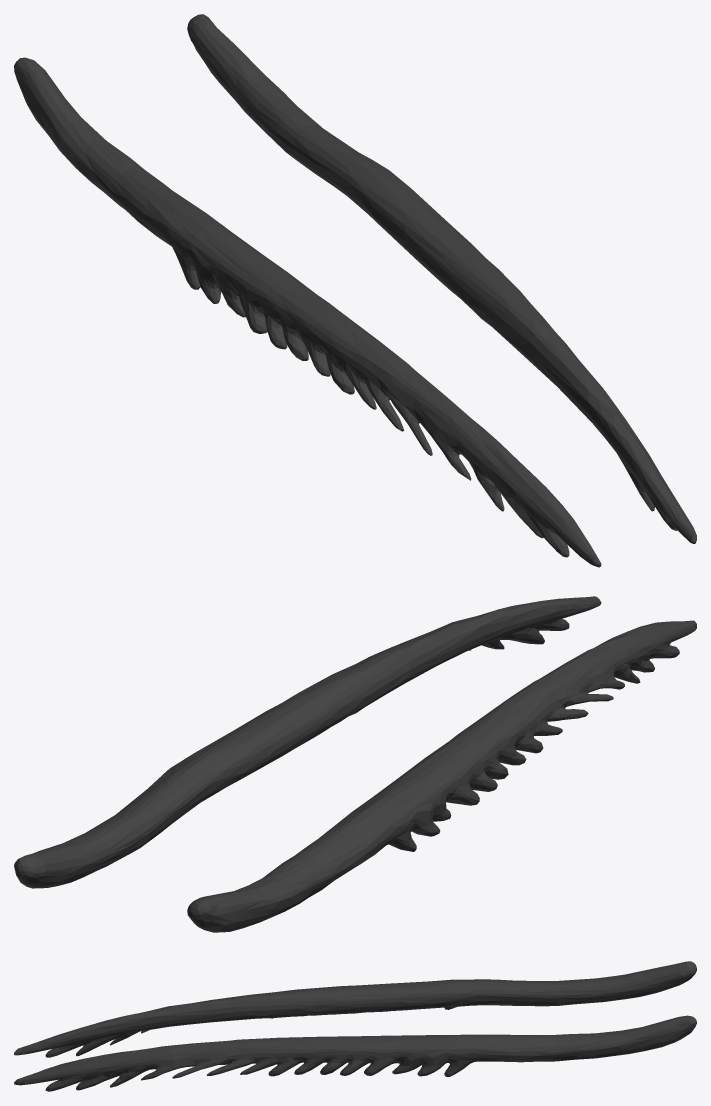
The model's file is m_iliocostalis_thoracis.glb.
The picture shows the model from 3 angles, top to bottom: view 1: azimuth 30°, elevation 25°; view 2: azimuth 150°, elevation 25°; view 3: azimuth 270°, elevation 25°; orthographic projection. The views are drawn at different scales.
Parts seen in each view (by area): view 1: m_iliocostalis_thoracis; view 2: m_iliocostalis_thoracis; view 3: m_iliocostalis_thoracis.
Boxes of the visible parts, box(x1,y1,x2,y2) form: m_iliocostalis_thoracis: box(14, 14, 696, 567); m_iliocostalis_thoracis: box(14, 596, 696, 932); m_iliocostalis_thoracis: box(14, 961, 696, 1091).
Size of the model in its own units: 0.00399 by 0.00223 by 0.0162.
1 material, 1 textured.
